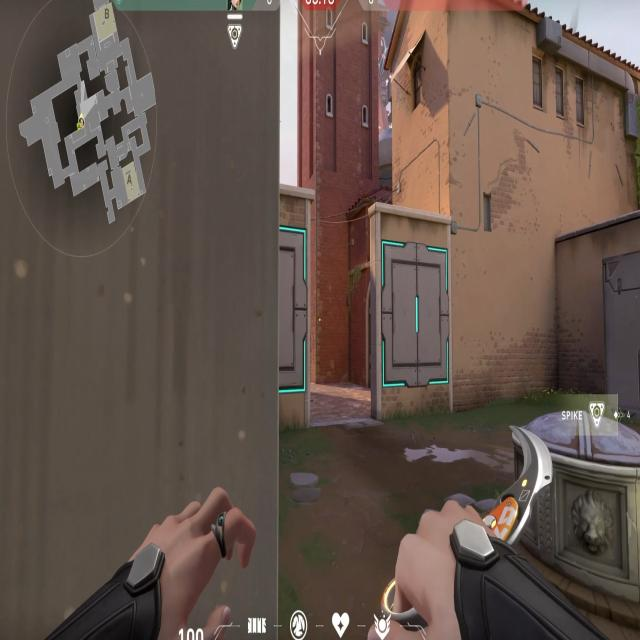Mid_Wall: (372, 208, 458, 412), (279, 211, 315, 418)
